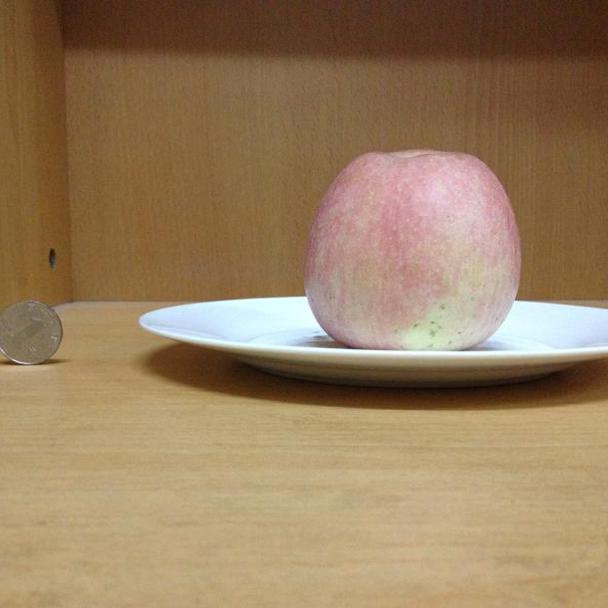apple: (303, 149, 523, 350)
